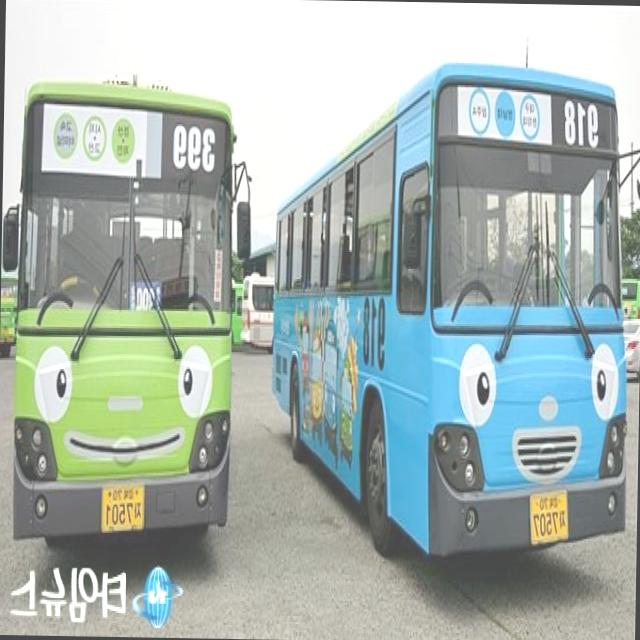bus-number: (170, 122, 217, 174), (562, 99, 599, 150)
